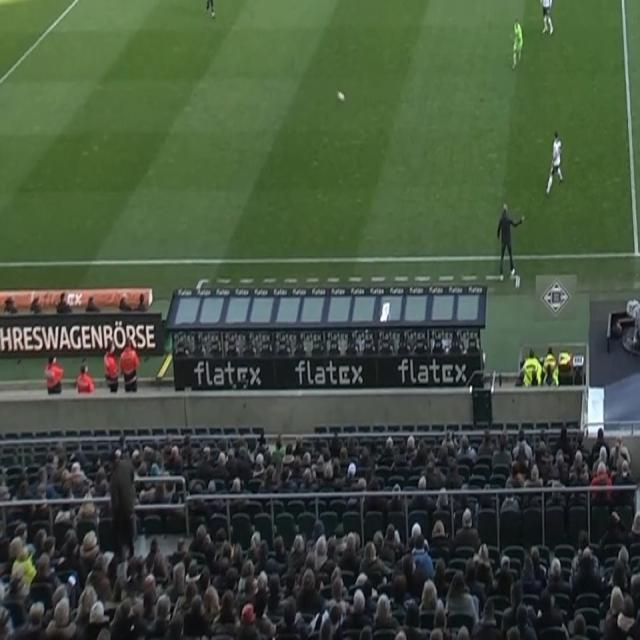ball: (336, 89, 346, 104)
